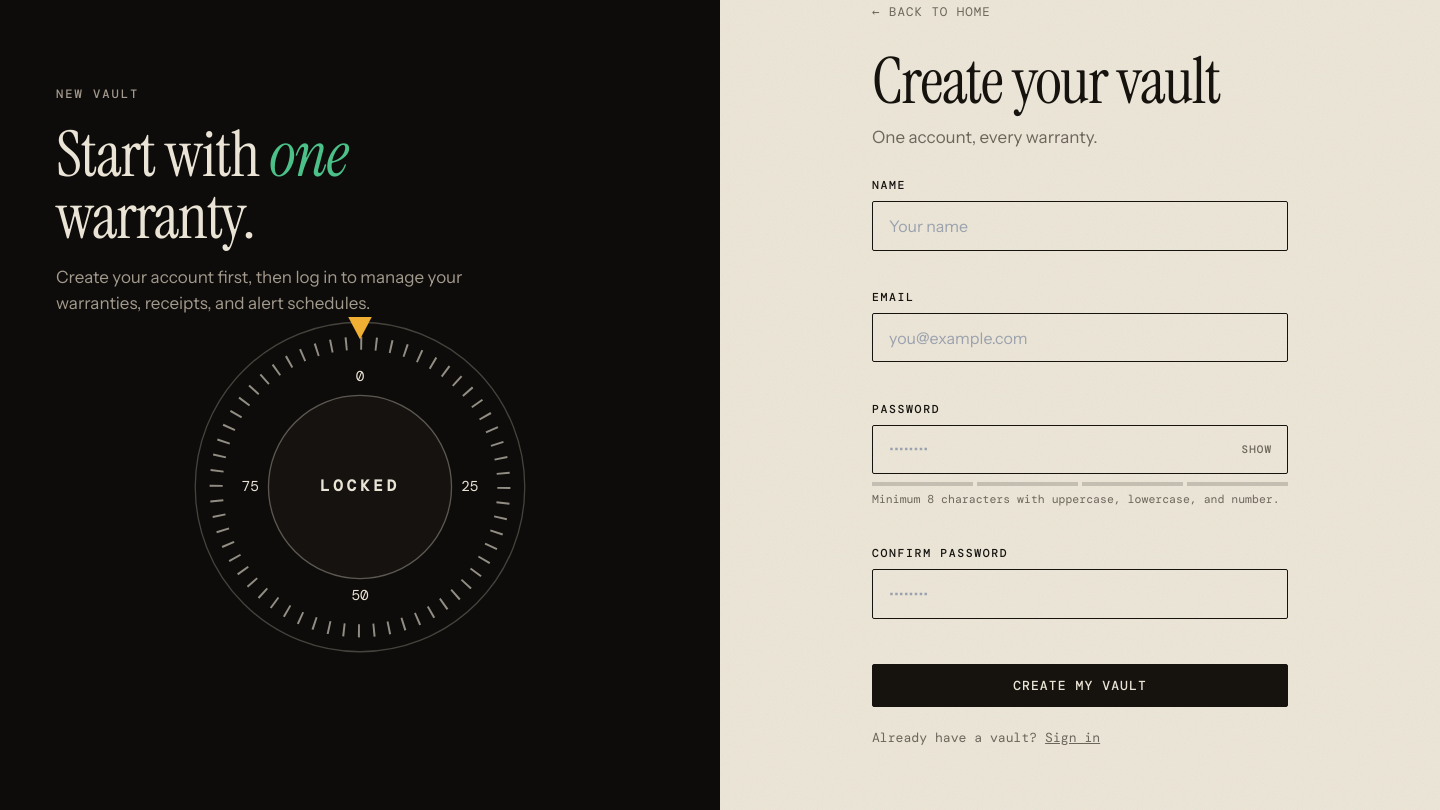
Test: WarrantyVault Authentication & Form Validations › validates registration required fields (name, email, password match)
(page scrolled)
Click the button "Create my vault" at (1080, 685), box [872,664,1288,707]
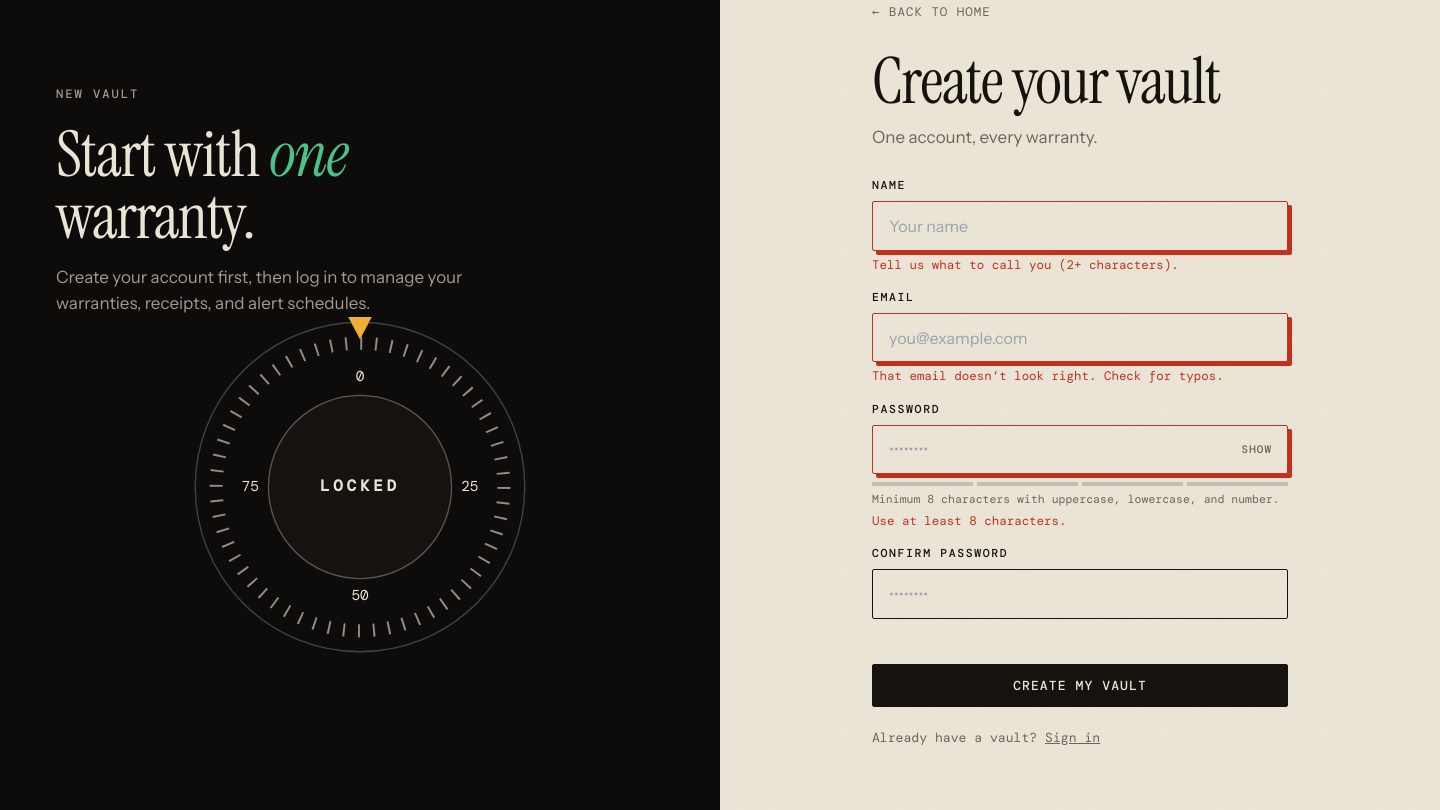
Now the text "Tell us what to call you (2+ characters)." is shown, box [872,256,1179,272]
Now the text "That email doesn’t look right. Check for typos." is shown, box [872,368,1224,384]
